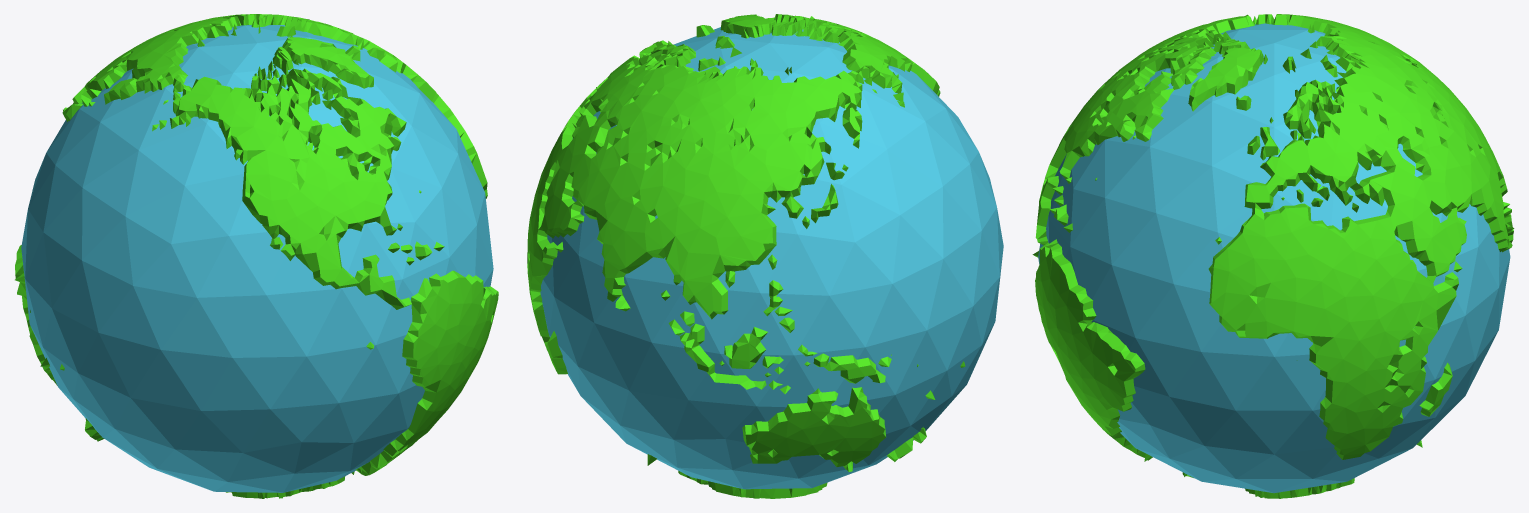
Rendered from earth_notree.gltf.
3 views of the same model, side by side, from view 1: azimuth 30°, elevation 25°; view 2: azimuth 150°, elevation 25°; view 3: azimuth 270°, elevation 25° (orthographic).
Parts seen in each view (by area): view 1: Icosphere, Sphere; view 2: Icosphere, Sphere; view 3: Sphere, Icosphere.
Part boxes in pixels (<box>): Icosphere: <box>21,25,493,492</box>; Sphere: <box>15,14,498,498</box>; Icosphere: <box>540,27,1003,489</box>; Sphere: <box>527,14,965,498</box>; Sphere: <box>1032,14,1514,498</box>; Icosphere: <box>1038,23,1510,493</box>.
Size of the model in its own units: 2.01 by 2.04 by 2.03.
